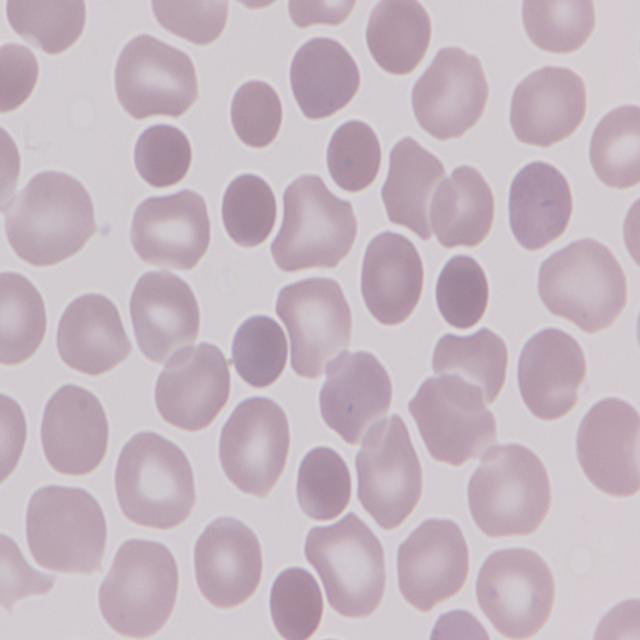RBC: (110, 430, 198, 537), (533, 238, 627, 336), (8, 168, 98, 268), (96, 535, 180, 639), (475, 538, 559, 640), (19, 481, 109, 576), (464, 448, 552, 544), (352, 424, 430, 532), (307, 516, 388, 620), (406, 42, 489, 142), (148, 336, 232, 434), (109, 31, 198, 122), (272, 182, 356, 278), (391, 514, 474, 610), (36, 378, 114, 480), (218, 396, 292, 503), (410, 370, 496, 462), (190, 510, 266, 611), (126, 187, 214, 274), (512, 326, 588, 424), (50, 288, 132, 378), (124, 266, 202, 360), (284, 28, 362, 122), (320, 348, 397, 443), (504, 63, 586, 151), (357, 228, 429, 328), (504, 155, 576, 253), (572, 396, 640, 496), (429, 163, 498, 249), (361, 0, 434, 81), (0, 271, 53, 369), (585, 104, 640, 192), (515, 0, 597, 57), (5, 0, 89, 54), (146, 0, 228, 47), (0, 37, 44, 113), (0, 381, 30, 489), (281, 0, 362, 32), (0, 113, 22, 225), (590, 591, 640, 640), (425, 606, 493, 640), (620, 179, 640, 280), (215, 0, 288, 12), (634, 0, 640, 96)
Spherocyte: (432, 250, 494, 335), (322, 116, 384, 200), (290, 438, 352, 521), (216, 172, 280, 252), (230, 310, 290, 390), (130, 116, 193, 192), (263, 563, 325, 640), (230, 76, 285, 148)
